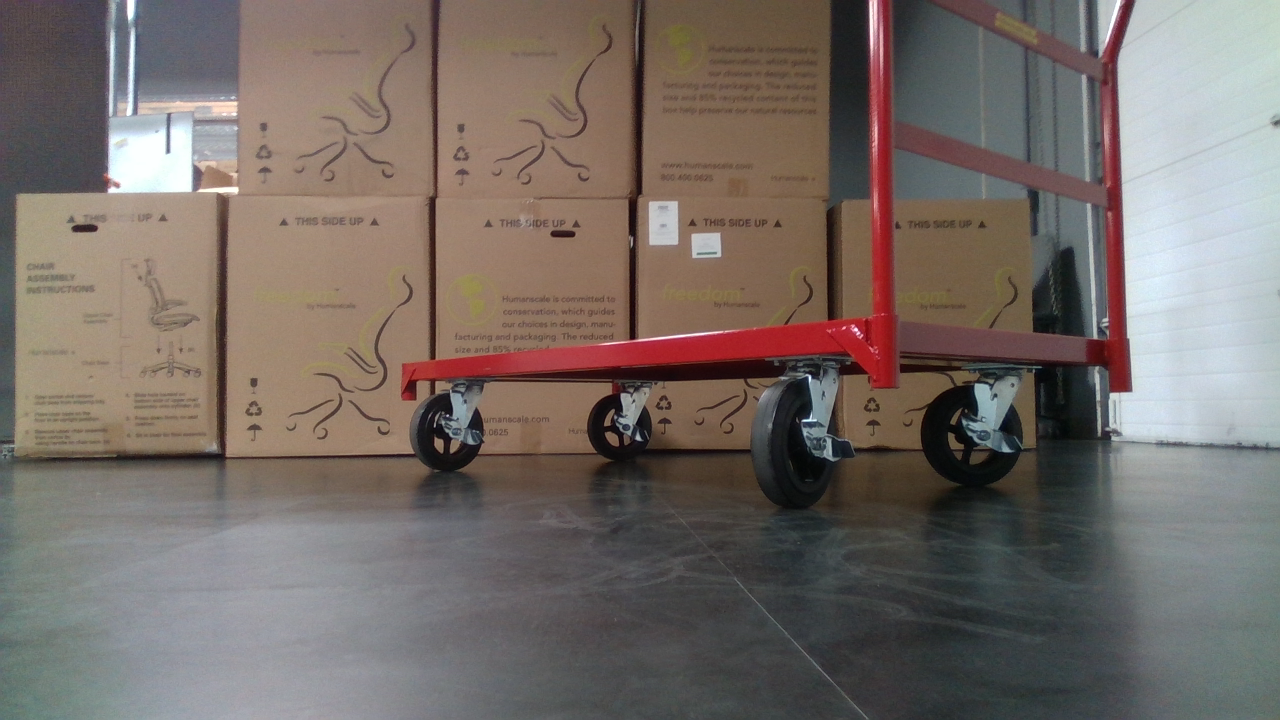Dolly: (398, 0, 1143, 506)
Wheel: (748, 382, 836, 507), (918, 386, 1022, 485), (410, 391, 486, 471), (587, 392, 652, 463)
